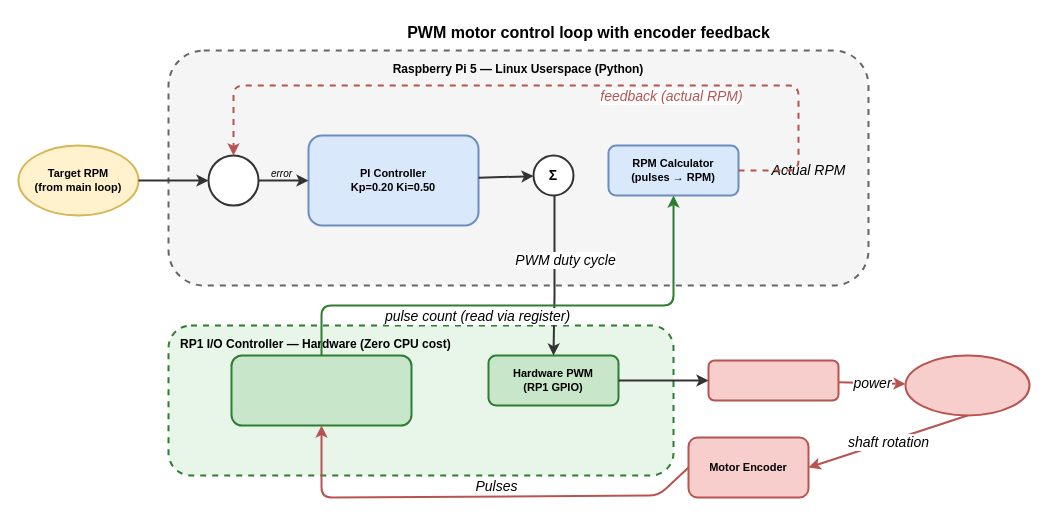
Image size: 1047x523. Some labels were removed from this diagram. Each missing label, with the centre of its shape:
"DC Motor + Wheel" goes at (967,385).
"RP1 PIO Block (hardware state machine) — counts edges — never misses a pulse" goes at (321,390).
"TB6612FNG Motor Driver" goes at (773,380).
"Σ + −" goes at (233,180).
